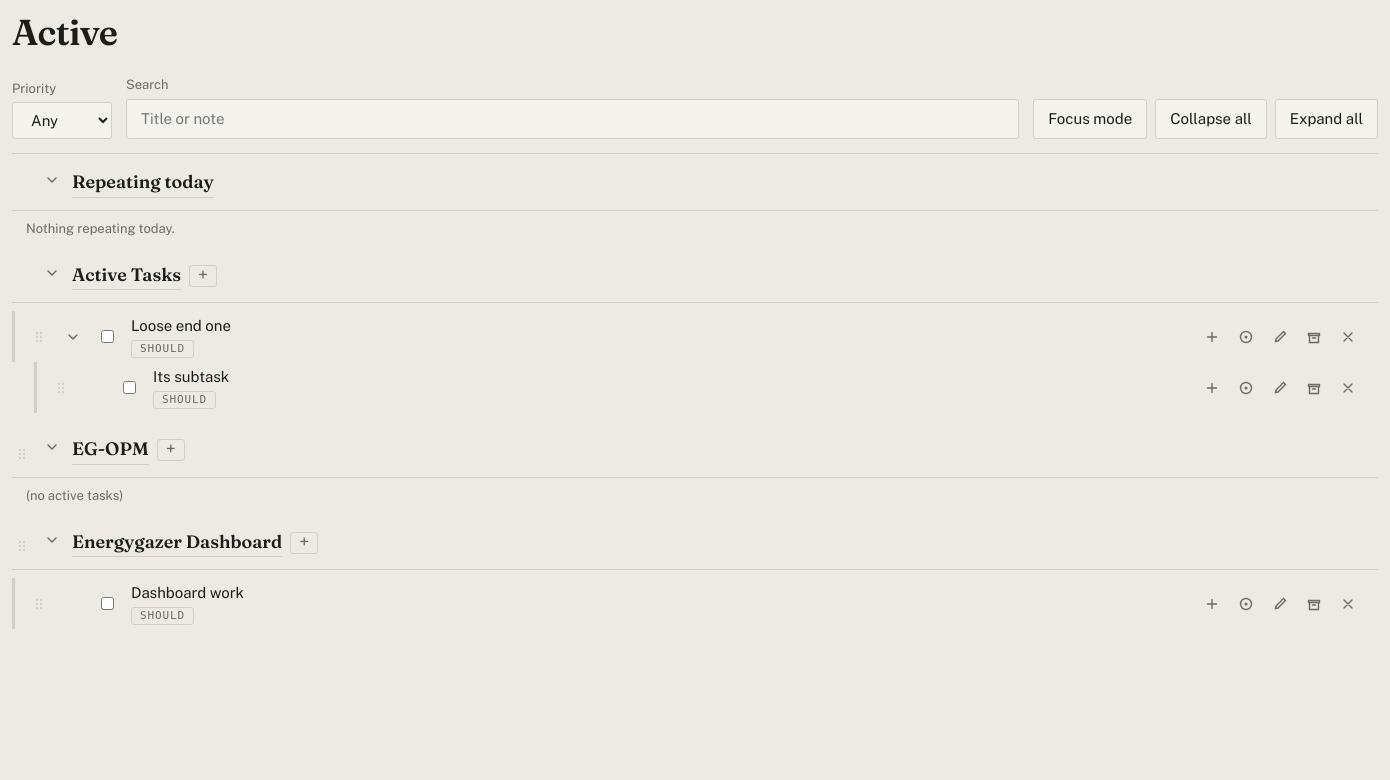
Test: collapsing › folds a task subtree without hiding the task itself
Expected: the text "Loose end one" is shown, left=131, top=317, right=231, bottom=334
Expected: the text "Its subtask" is shown, left=153, top=368, right=229, bottom=385
Click the 3rd button named "collapse subtasks of Loose end one" at (73, 337), box left=63, top=327, right=83, bottom=347
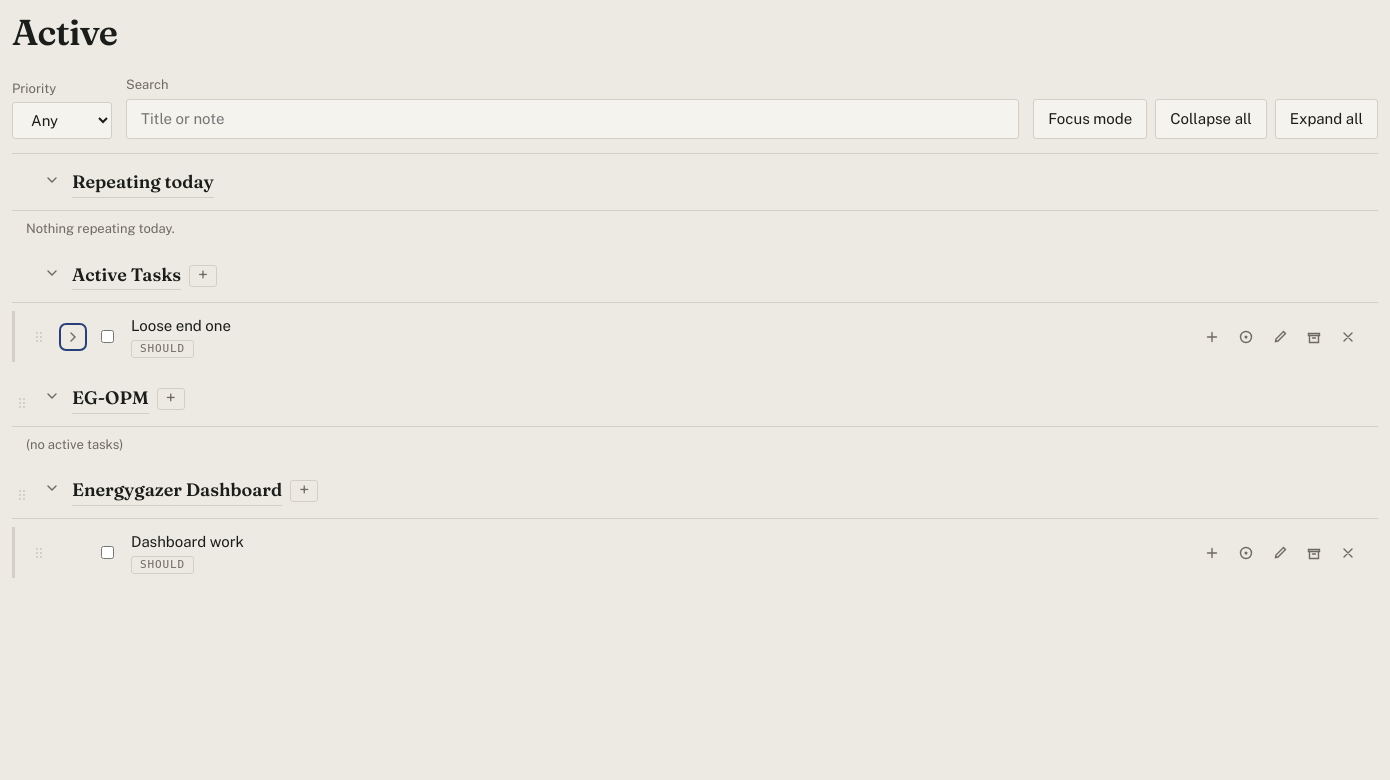
Expected: the text "Loose end one" is shown, left=131, top=317, right=231, bottom=334
Expected: the text "Its subtask" is gone
